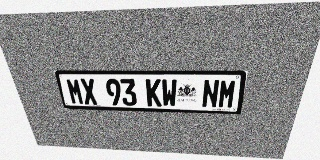3: (120, 79, 137, 106)
9: (105, 79, 123, 106)
K: (145, 79, 162, 107)
M: (217, 79, 237, 108), (65, 78, 85, 105)
N: (201, 79, 220, 108)
W: (161, 79, 177, 107)
X: (79, 78, 98, 105)
